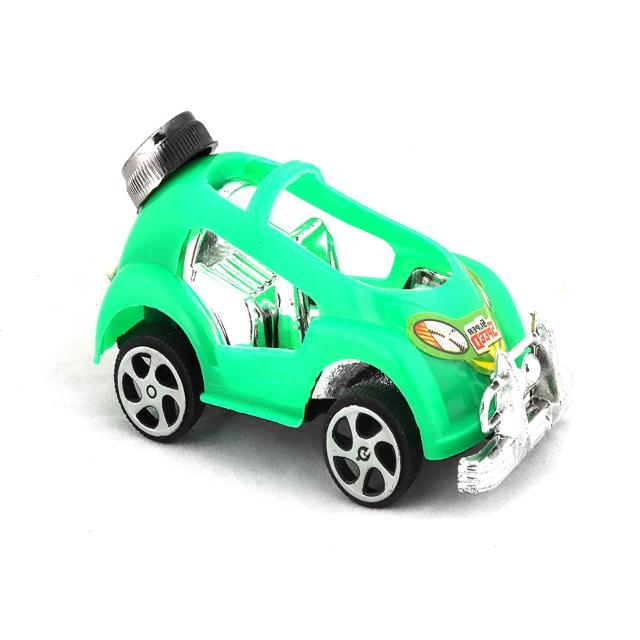Car: (93, 109, 574, 509)
